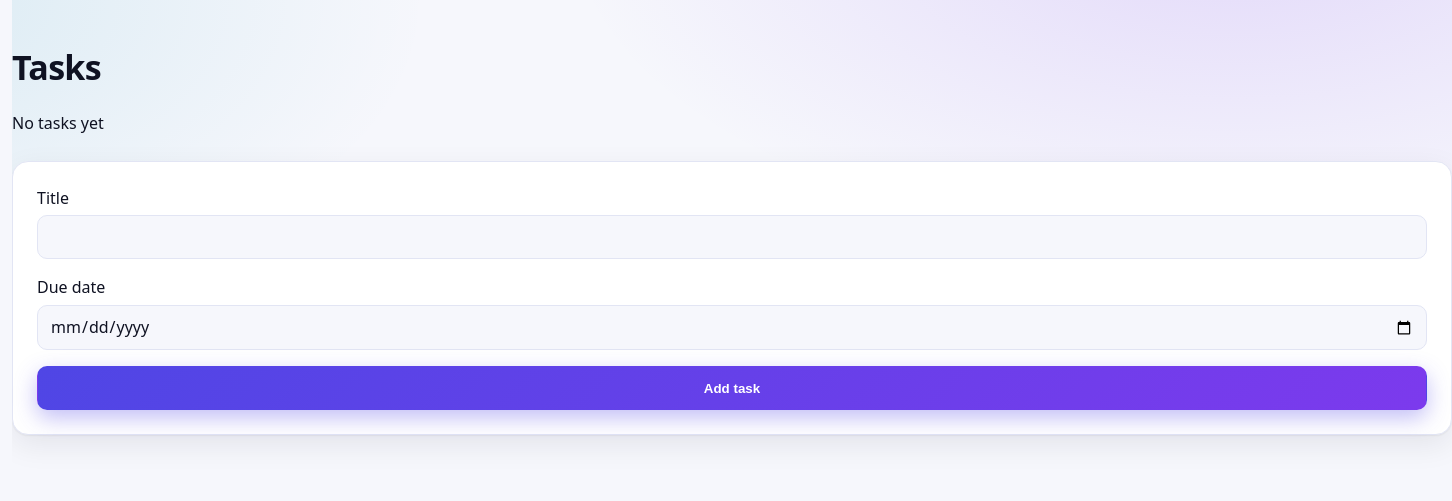
Test: task board interactions › shows the limit message and keeps the values
The image size is (1452, 501).
In the field labelled "Title": (732, 237) [37,215,1427,259], type "Buy milk"
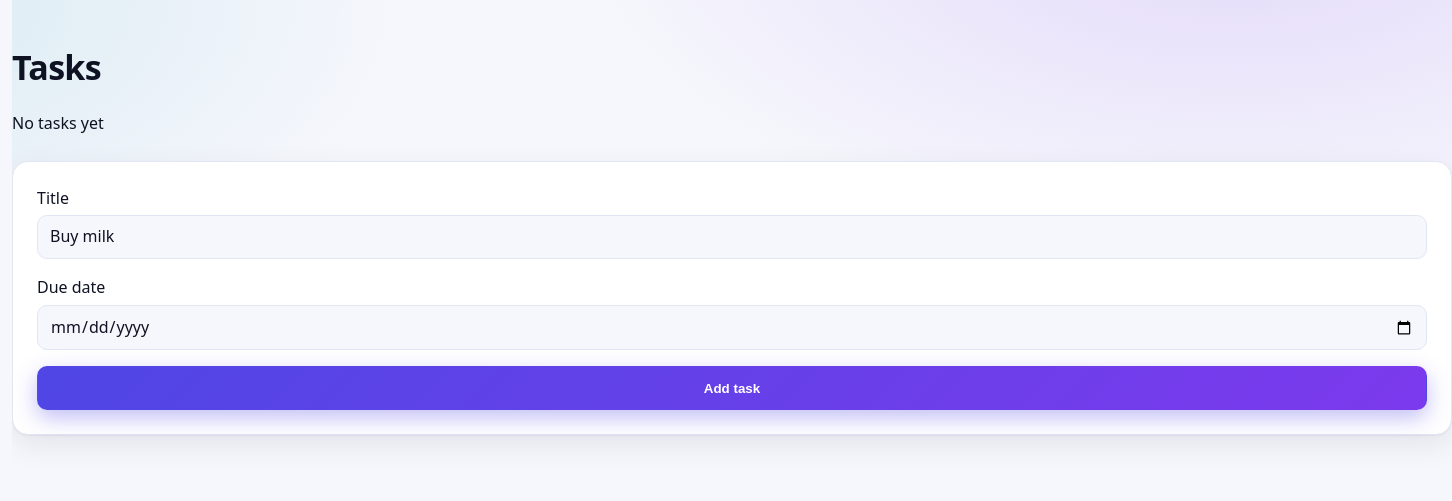
Click the button "Add task": (732, 388) [37,366,1427,410]
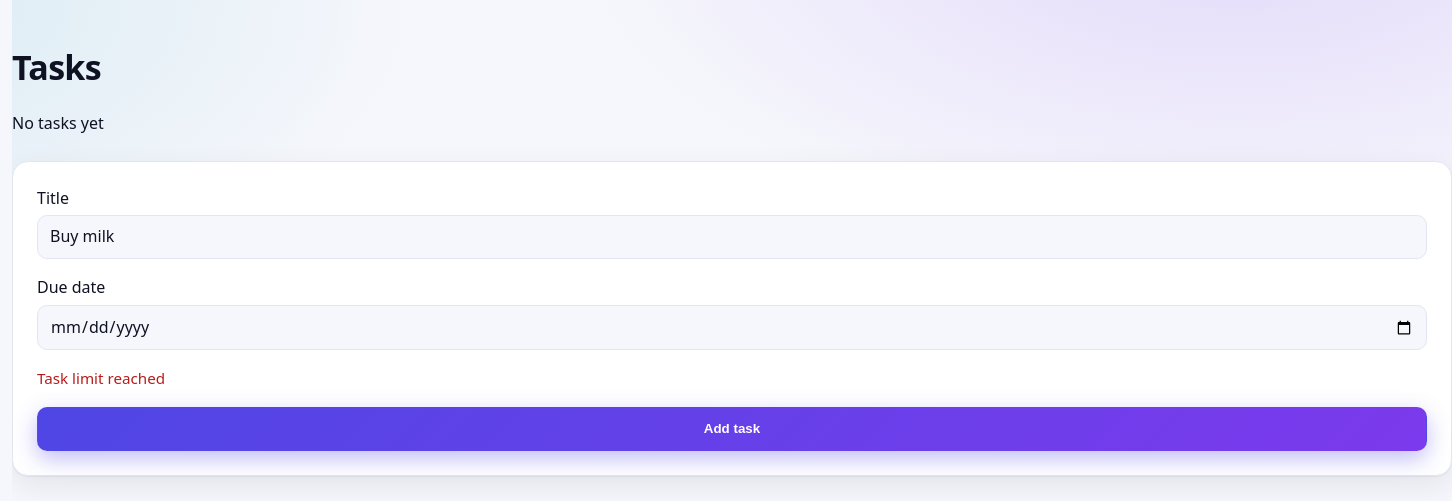
Expected: the text "Task limit reached" is shown, [37,368,165,388]
